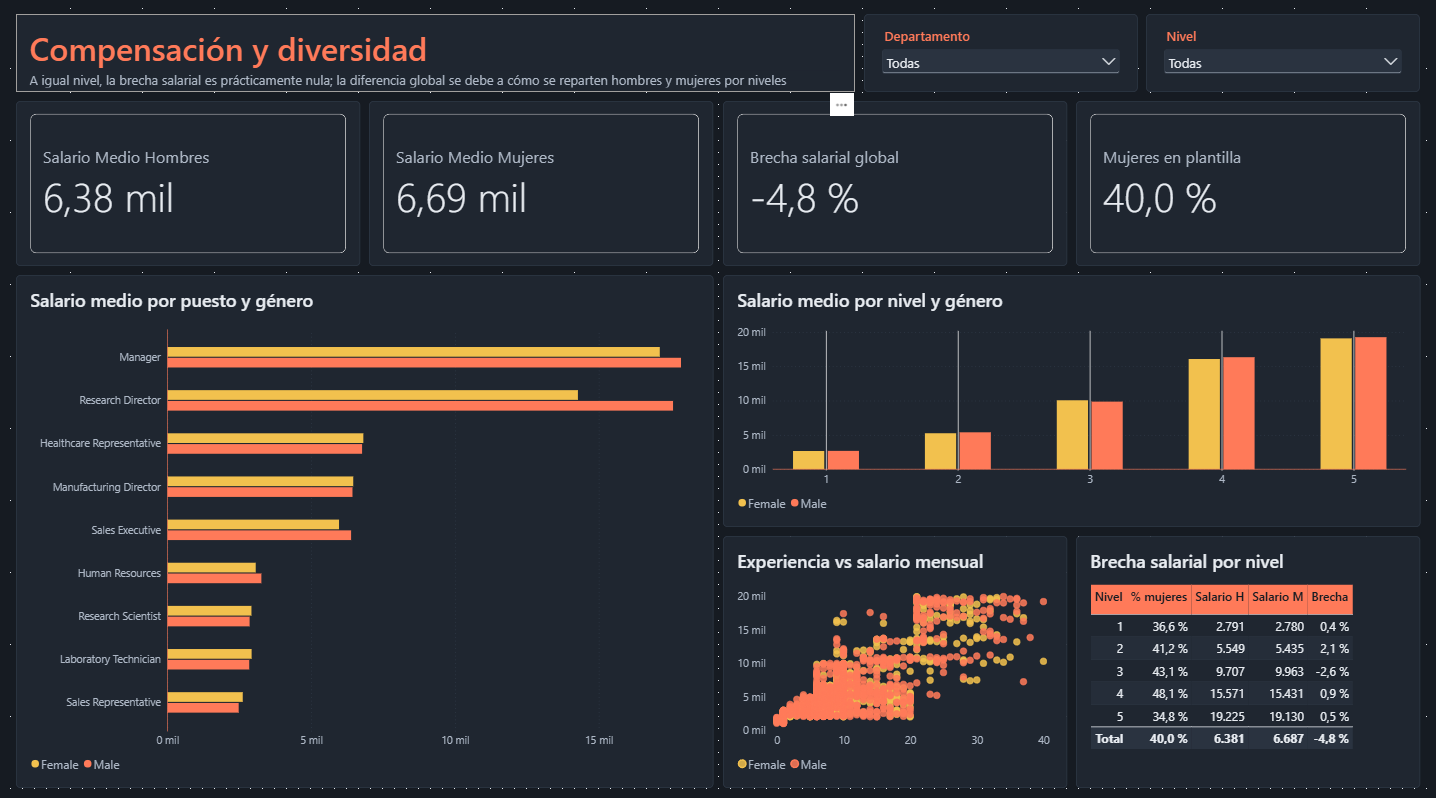

The page's visual inventory and layout, read from the dashboard file:
{"tool":"powerbi","page":{"name":"Compensacion","canvas":[1920,1080],"ordinal":2},"visuals":[{"type":"slicer","fields":{"Values":["fEmpleados.JobLevel"]},"box":[1531,24,365,104],"z":0},{"type":"slicer","fields":{"Values":["fEmpleados.Department"]},"box":[1154,24,365,104],"z":1},{"type":"cardVisual","fields":{"Data":["Medidas.Salario Medio Hombres"]},"box":[24,140,459,220],"z":2},{"type":"cardVisual","fields":{"Data":["Medidas.Salario Medio Mujeres"]},"box":[495,140,459,220],"z":3},{"type":"cardVisual","fields":{"Data":["Medidas.Brecha Salarial %"]},"box":[966,140,459,220],"z":4},{"type":"cardVisual","fields":{"Data":["Medidas.% Mujeres"]},"box":[1437,140,459,220],"z":5},{"type":"clusteredBarChart","title":"Salario medio por puesto y género","fields":{"Category":["fEmpleados.JobRole"],"Series":["fEmpleados.Gender"],"Y":["Medidas.Salario Mediano"]},"box":[24,372,930,684],"z":6},{"type":"clusteredColumnChart","title":"Salario medio por nivel y género","fields":{"Category":["fEmpleados.JobLevel"],"Series":["fEmpleados.Gender"],"Y":["Medidas.Salario Mediano"]},"box":[966,372,930,336],"z":7},{"type":"scatterChart","title":"Experiencia vs salario mensual","fields":{"Series":["fEmpleados.Gender"],"X":["fEmpleados.TotalWorkingYears"],"Y":["fEmpleados.MonthlyIncome"]},"box":[966,720,459,336],"z":8},{"type":"tableEx","title":"\tBrecha salarial por nivel","fields":{"Values":["fEmpleados.JobLevel","Medidas.% Mujeres","Medidas.Salario Medio Hombres","Medidas.Salario Medio Mujeres","Medidas.Brecha Salarial %"]},"box":[1437,720,459,336],"z":9},{"type":"textbox","title":"\tCompensación y diversidad","box":[24,24,1118,104],"z":10}]}

Visuals, with their boxes in screenshot pixels (x1, y1, x2, y2), scaled from the page's 1920x1080 canvas onto the 1436x798 screenshot:
slicer - fEmpleados.JobLevel: detection(1145, 18, 1418, 95)
slicer - fEmpleados.Department: detection(863, 18, 1136, 95)
cardVisual - Medidas.Salario Medio Hombres: detection(18, 103, 361, 266)
cardVisual - Medidas.Salario Medio Mujeres: detection(370, 103, 714, 266)
cardVisual - Medidas.Brecha Salarial %: detection(722, 103, 1066, 266)
cardVisual - Medidas.% Mujeres: detection(1075, 103, 1418, 266)
"Salario medio por puesto y género" clusteredBarChart: detection(18, 275, 714, 780)
"Salario medio por nivel y género" clusteredColumnChart: detection(722, 275, 1418, 523)
"Experiencia vs salario mensual" scatterChart: detection(722, 532, 1066, 780)
"	Brecha salarial por nivel" tableEx: detection(1075, 532, 1418, 780)
"	Compensación y diversidad" textbox: detection(18, 18, 854, 95)
